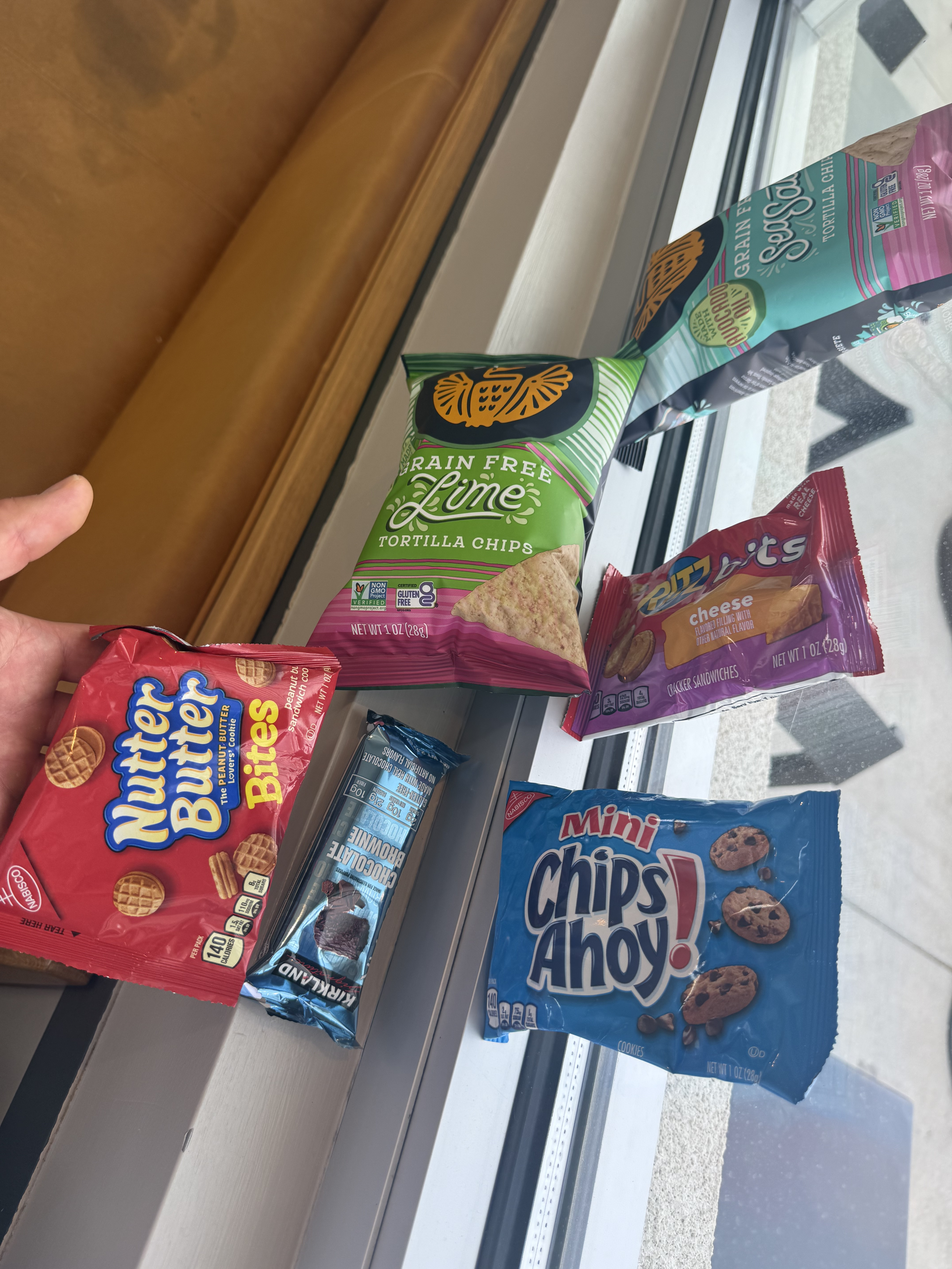chips_ahoy: (507, 783, 851, 1089)
chocolate_brownie: (330, 695, 475, 1039)
lime: (395, 331, 638, 673)
nutter_butter: (99, 585, 367, 952)
ritz_cheese: (588, 512, 889, 714)
sea_salt: (638, 149, 952, 410)
